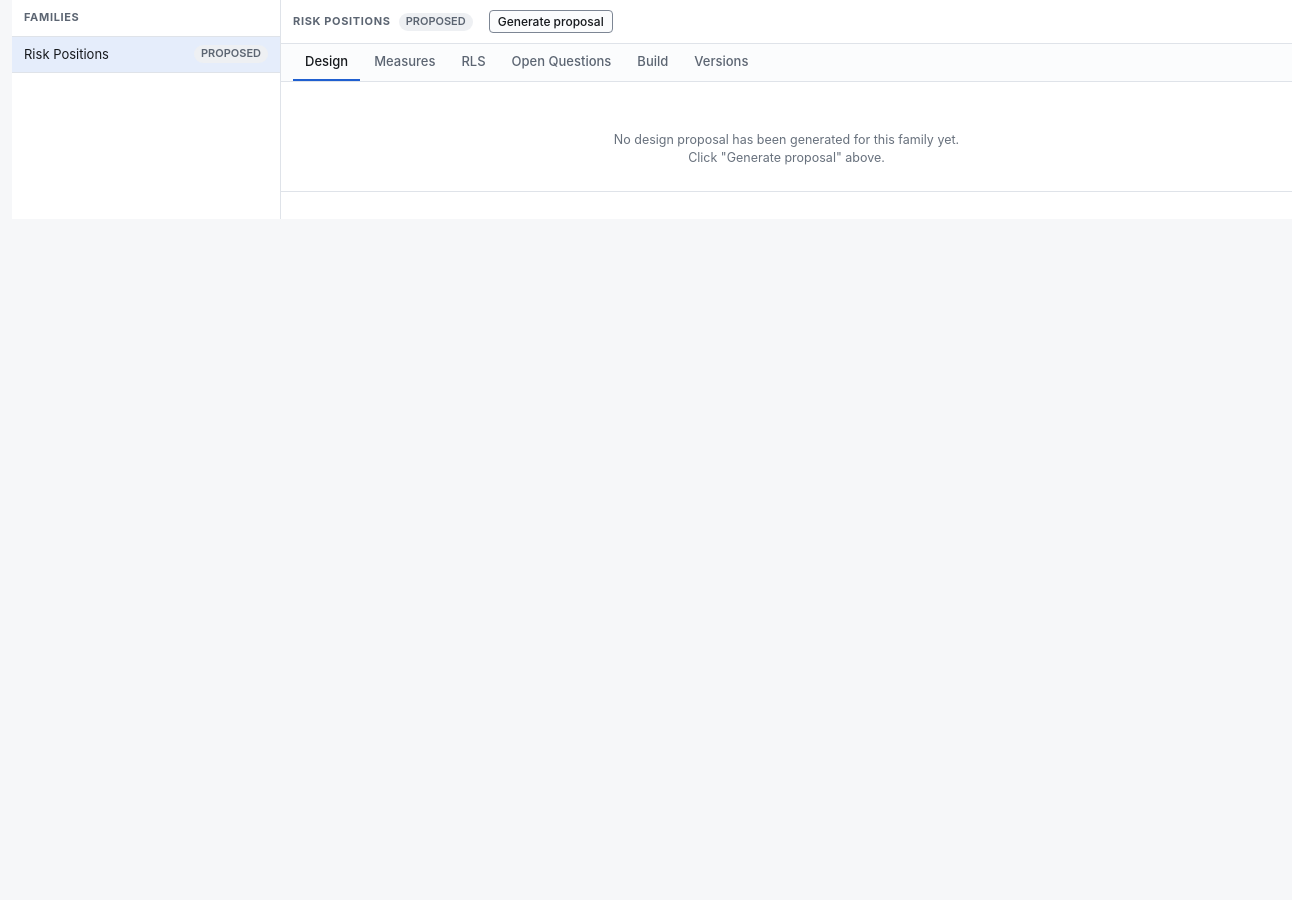
Test: generating and accepting a proposal › generates a proposal, then offers to accept it
The image size is (1292, 900).
Click the button "Generate proposal" at [551, 22], box [489,10,613,33]
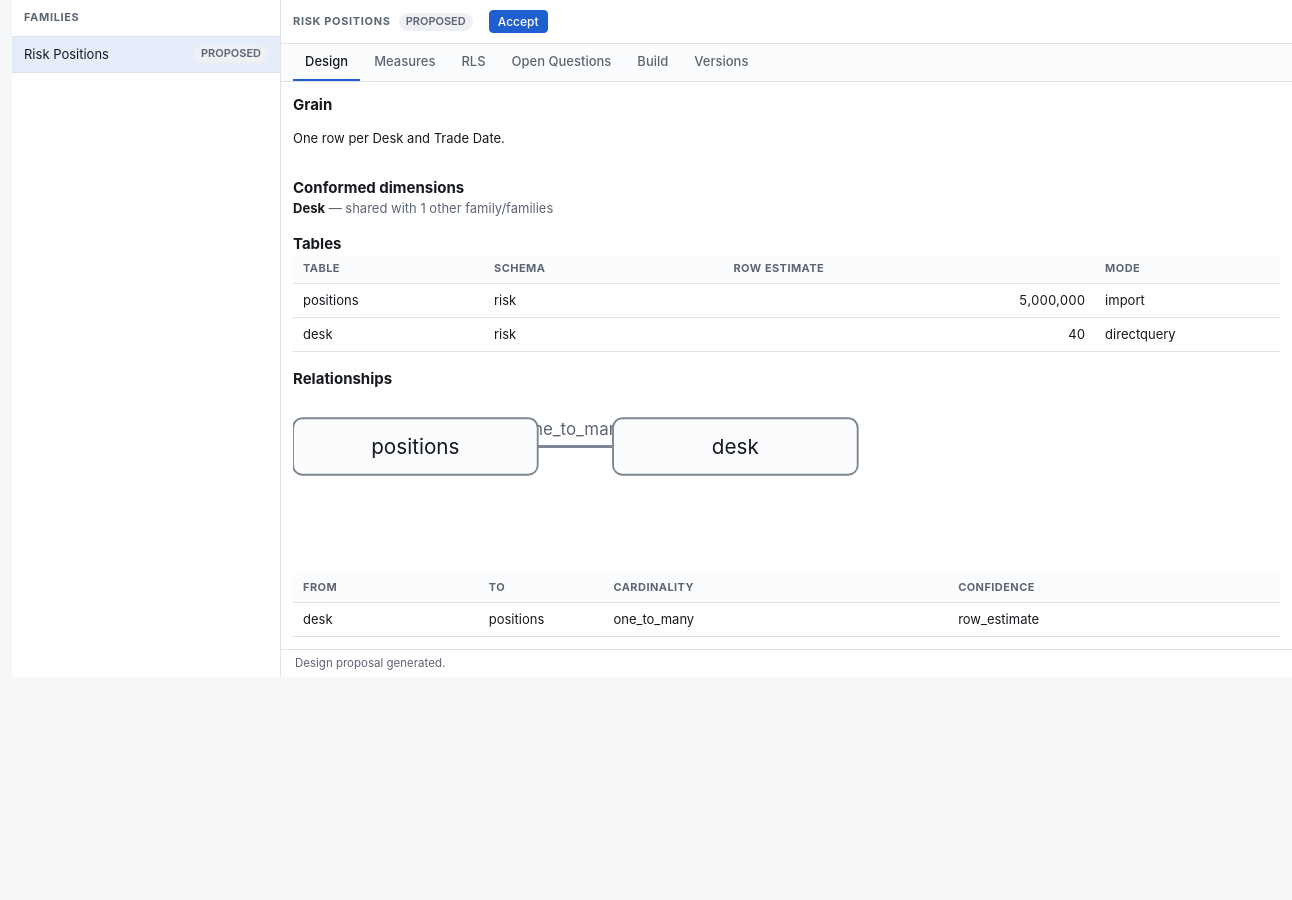
Expected: the button "Accept" is shown, [489,10,548,33]
